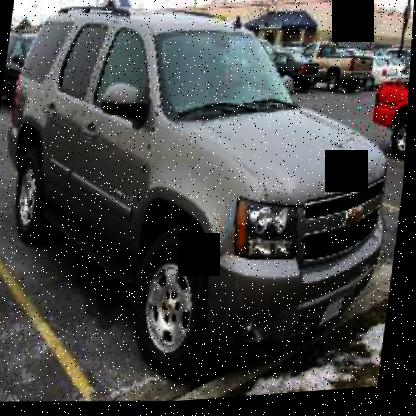not_emergency: (0, 0, 415, 401)
